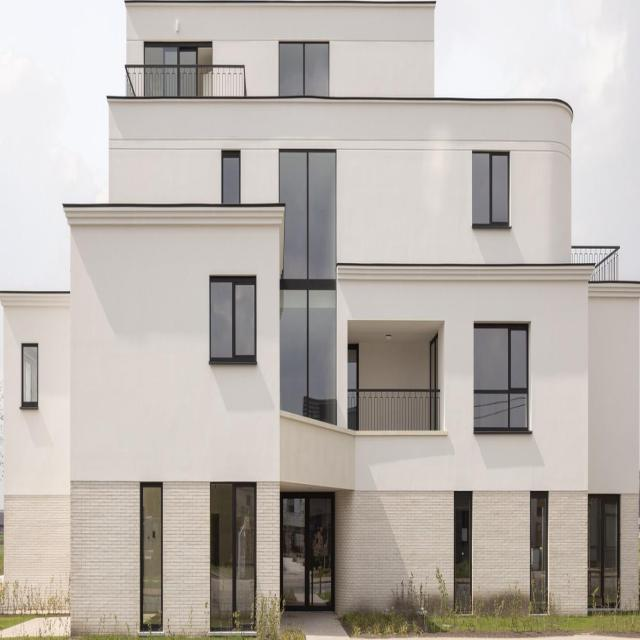Railing: (349, 386, 441, 431), (125, 67, 247, 100)
door: (281, 493, 335, 612)
wall: (0, 0, 640, 639)
windows: (280, 146, 337, 426), (209, 484, 256, 630), (474, 328, 529, 433), (210, 281, 256, 364), (589, 496, 623, 605), (278, 38, 332, 100), (140, 484, 162, 630), (473, 151, 511, 225), (454, 494, 472, 616), (531, 495, 549, 617), (144, 44, 212, 71), (573, 243, 619, 282), (23, 339, 41, 405), (221, 148, 241, 205)
